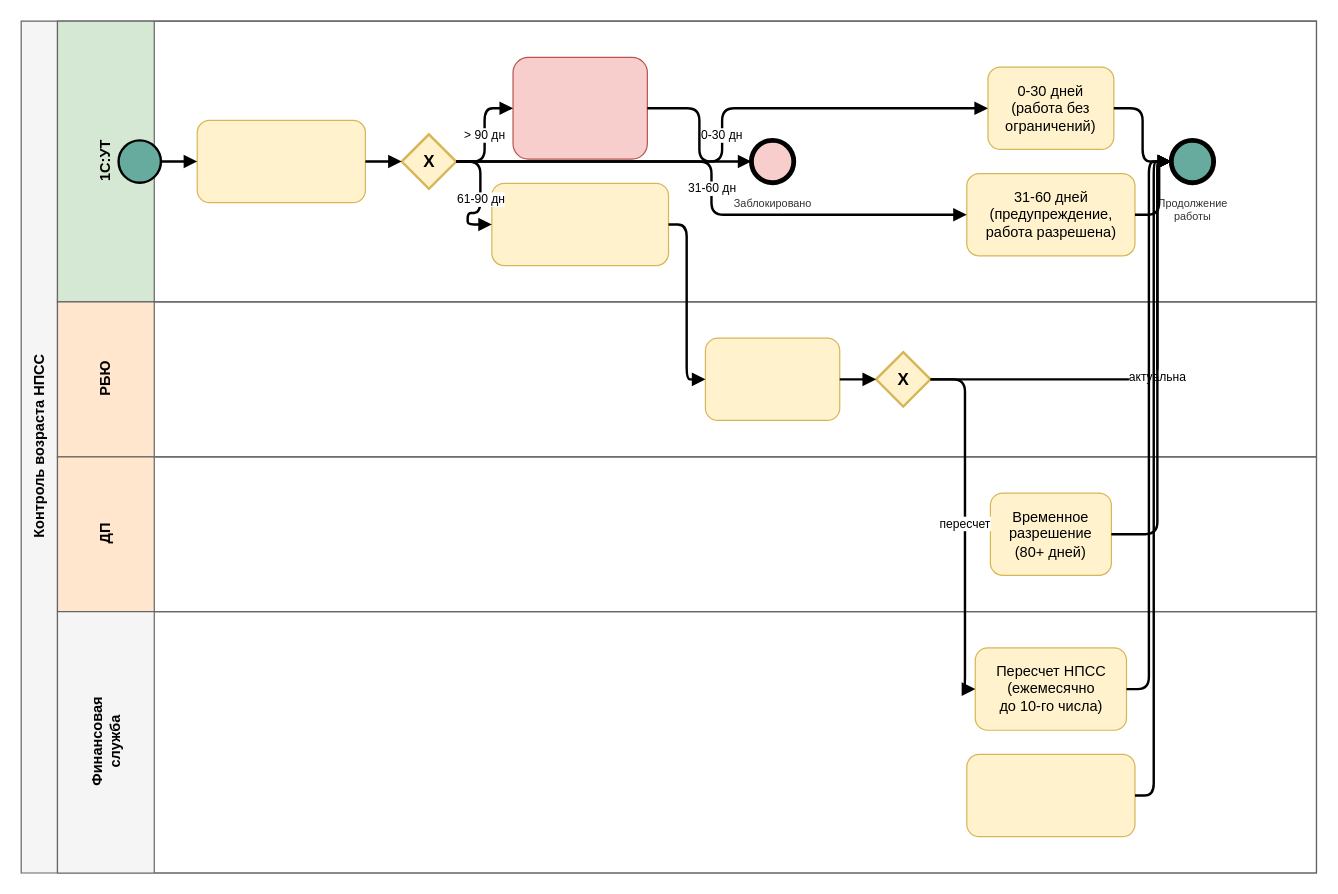
Image size: 1338x894. Some labels were removed from this diagram. Here are the shapes that lost their labels. From the top down, the centre of each, then its label:
the point at 579,107: > 90 дней БЛОКИРОВКА (обязательный пересчет)
the point at 280,161: Проверка возраста НПСС при создании заказа
the point at 580,224: 61-90 дней (требуется подтверждение РБЮ)
the point at 772,378: Подтверждение актуальности или пересчет
the point at 1050,795: Квартальный аудит (100 SKU, точность < 5%)
